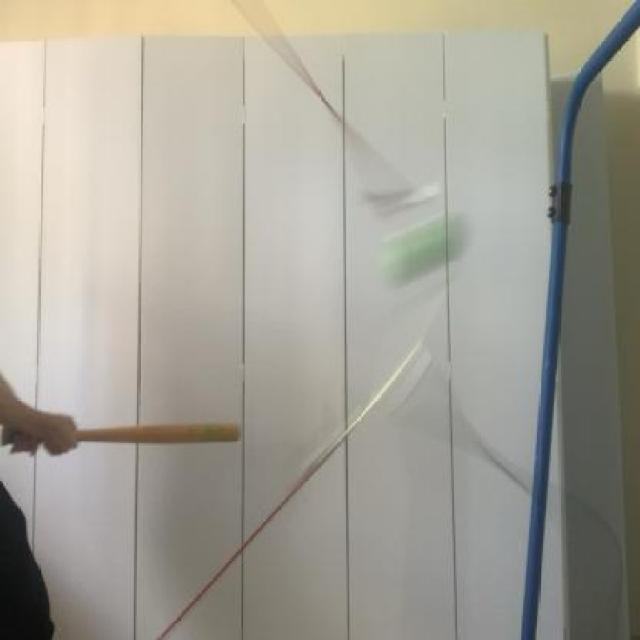baseball: (372, 197, 471, 286)
